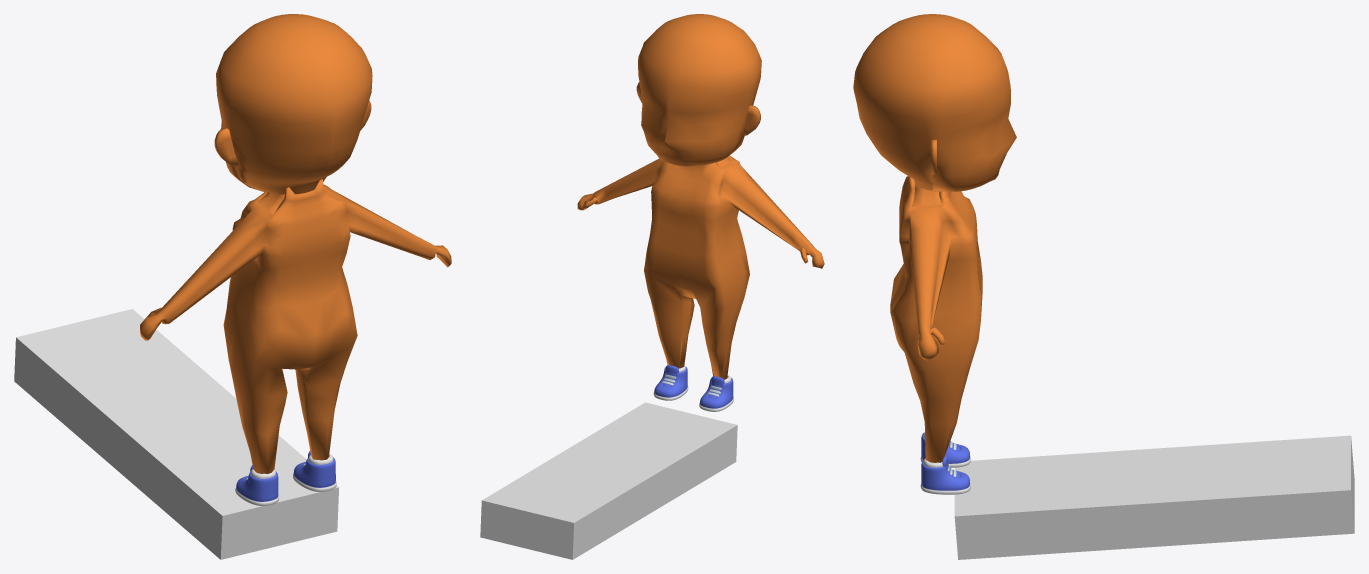
File: deneme_4.fbx
3 renders of one model, left to right at view 1: azimuth 30°, elevation 25°; view 2: azimuth 150°, elevation 25°; view 3: azimuth 270°, elevation 25°, orthographic. The views are drawn at different scales.
Parts seen in each view (by area): view 1: body, Cube.001; view 2: body, Cube.001; view 3: body, Cube.001.
Boxes of the visible parts, <box> form: body: <box>140,14,451,505</box>; Cube.001: <box>14,309,338,559</box>; body: <box>577,14,824,411</box>; Cube.001: <box>480,402,737,559</box>; body: <box>853,14,1016,494</box>; Cube.001: <box>954,435,1354,559</box>.
Size of the model in its own units: 478 by 786 by 698.
